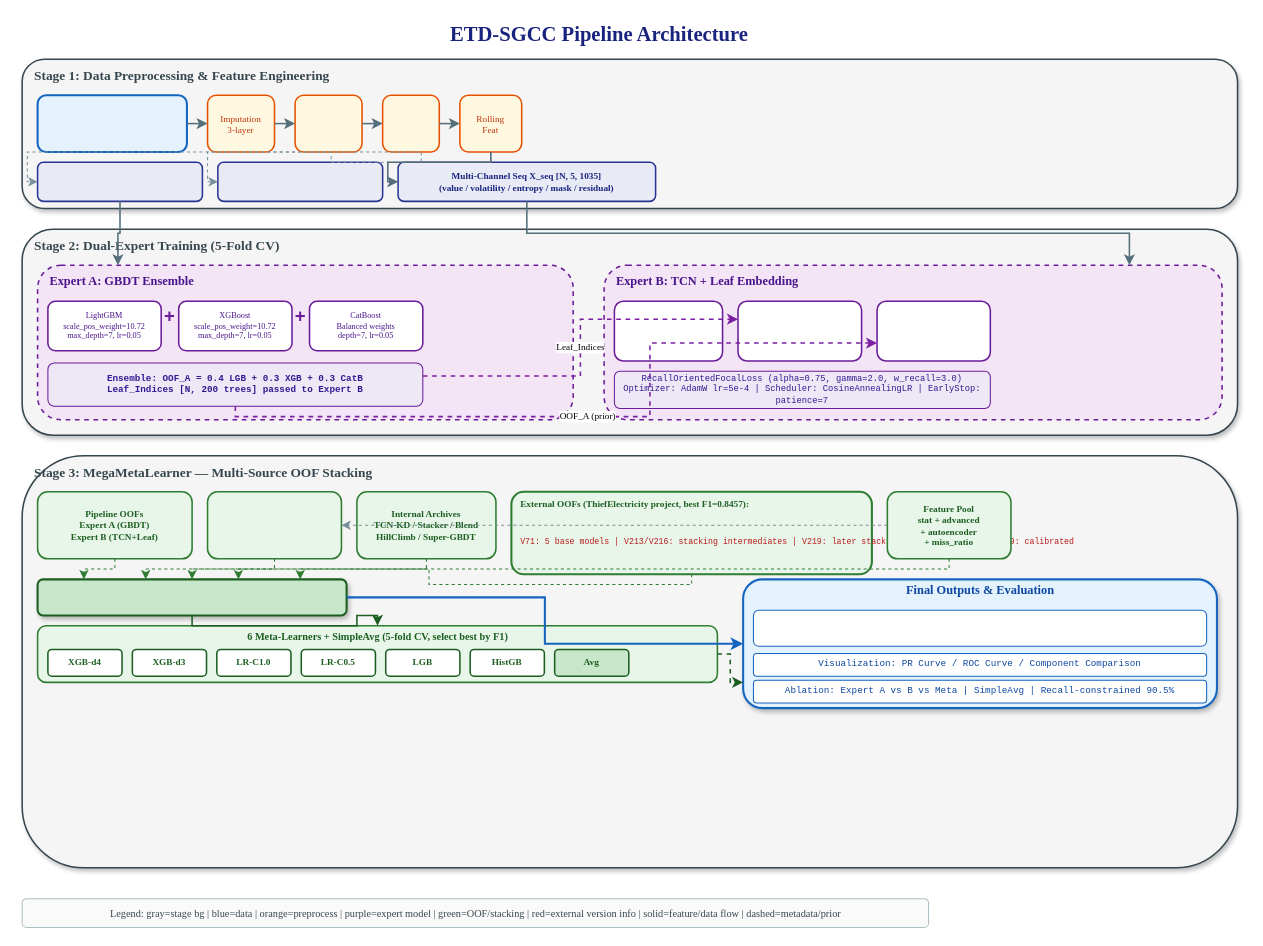
This 1263x946 diagram has some shape labels left out. The shapes that lost their labels are listed below. From the top down, each one's centre as x and y in pixels, then its label:
At pixel 111 123: "SGCC Raw Data 42,372 x 1,035 days theft 8.5% / miss 25.6%".
At pixel 328 123: "Winsorize + log1p".
At pixel 410 123: "STL Decomp T=7".
At pixel 119 181: "Statistical Features 39 base + 15 missing patterns".
At pixel 300 181: "Advanced Features FFT / behavioral / CUSUM / holiday".
At pixel 668 330: "TCN Encoder [32, 32, 32, 16] kernel=5, dilate=2^i weight-norm + GELU".
At pixel 799 330: "Leaf Embedding 200 trees x 31 leaves embed=4, proj=32 GELU + LayerNorm".
At pixel 933 330: "Gated Fusion sigmoid gate + concat classifier [128->32->1]".
At pixel 274 525: "Feature Experts LGB-new / XGB-new CatB-new / RF-new".
At pixel 192 598: "OOF Matrix P [N x K] assembled from all sources".
At pixel 979 627: "oof_proba_meta (best stacking) | best_F1 / threshold / AUC / Confusion Matrix".
